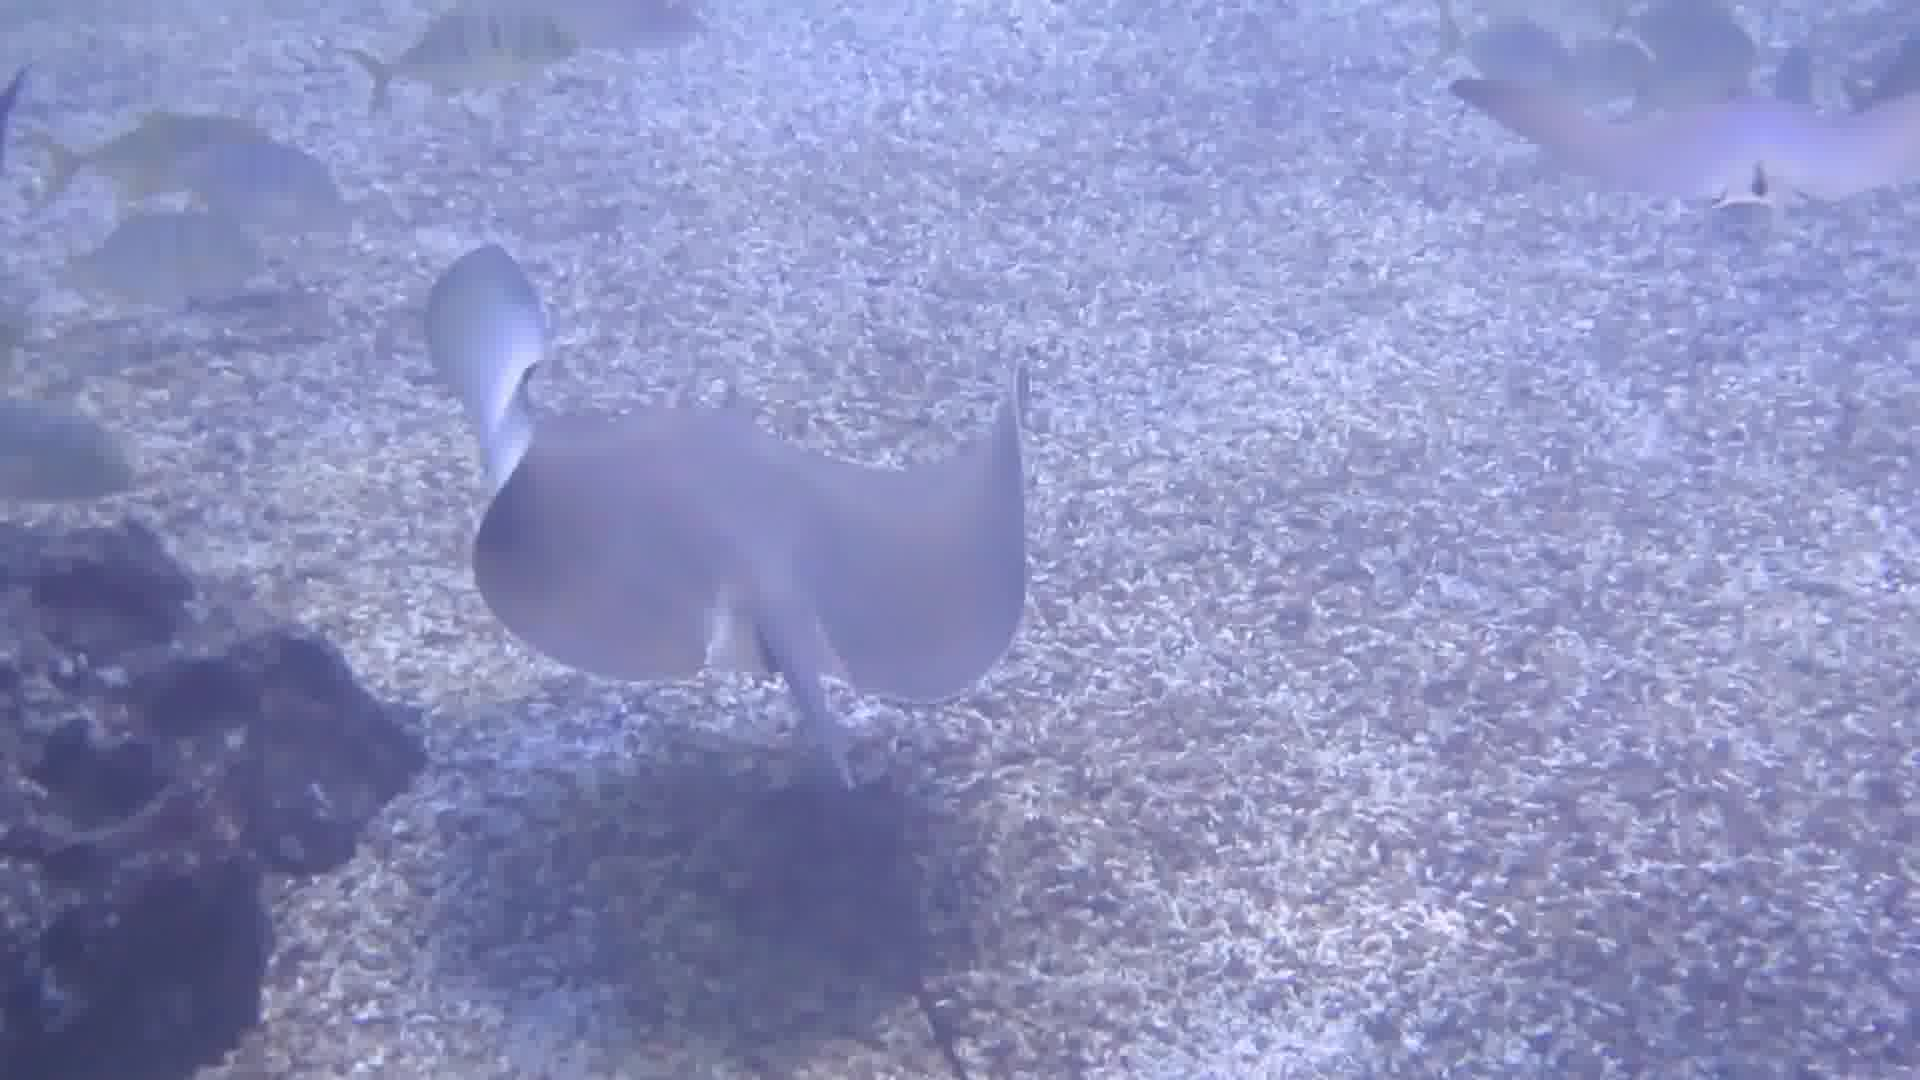Dasyatis akajei: (285, 142, 1246, 1079)
